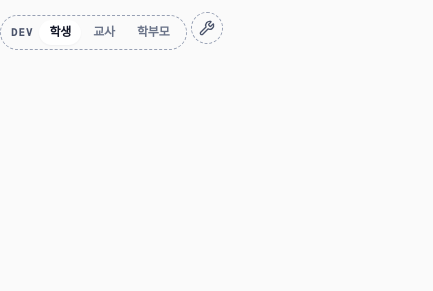
Test: 드롭다운을 열면 착지점 있는 역할의 계정 전원이 보인다 — 한 역할에 계정이 둘인 것까지
The width and height of the screenshot is (433, 291).
Click the button named "개발용 계정 전환": click(206, 28) [190,12,222,44]
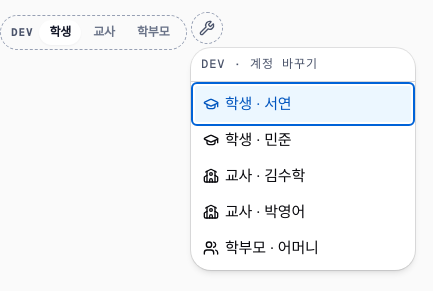
Now the text "dev · 계정 바꾸기" is shown, box [201,56,318,72]
Now the link "학생 · 서연" is shown, box [203,96,292,112]
Now the link "학생 · 민준" is shown, box [203,132,292,148]
